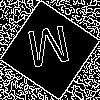M: (25, 25, 75, 77)
